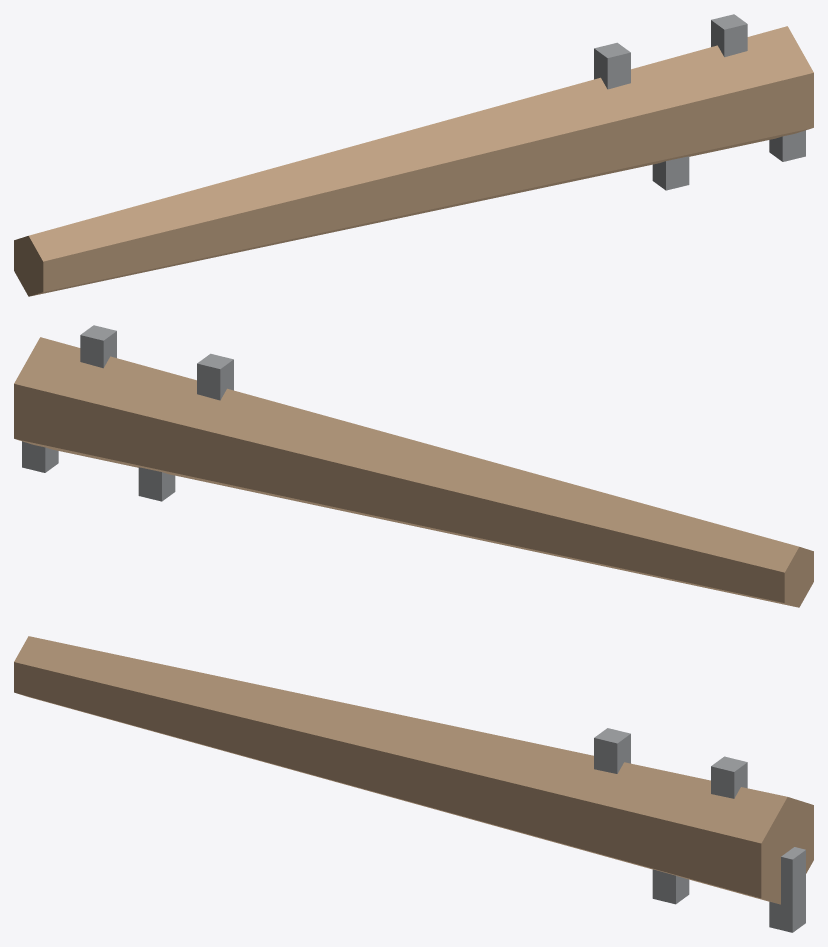
File: held_weapon_club.glb
3 views of the same model, one above another, from view 1: azimuth 30°, elevation 25°; view 2: azimuth 150°, elevation 25°; view 3: azimuth 330°, elevation 25° (orthographic).
Visible parts, largest first — view 1: held_weapon_club; view 2: held_weapon_club; view 3: held_weapon_club.
Part boxes in pixels (left/top/right/bottom): held_weapon_club: left=14, top=14, right=813, bottom=296; held_weapon_club: left=14, top=325, right=813, bottom=607; held_weapon_club: left=14, top=636, right=813, bottom=932.
Size of the model in its own units: 0.66 by 0.12 by 0.0779.
